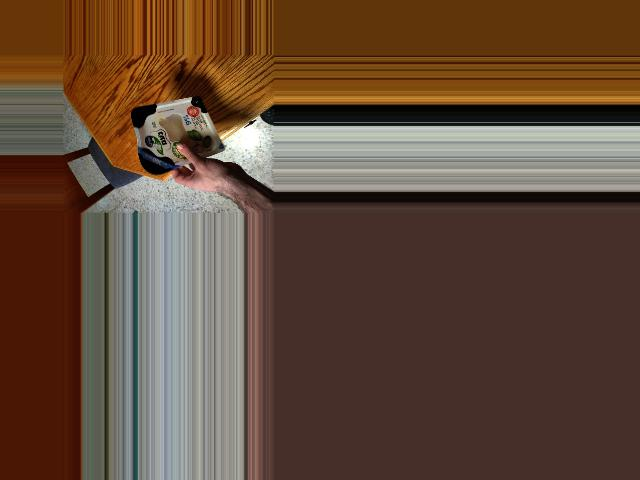cheese: (133, 98, 209, 172)
